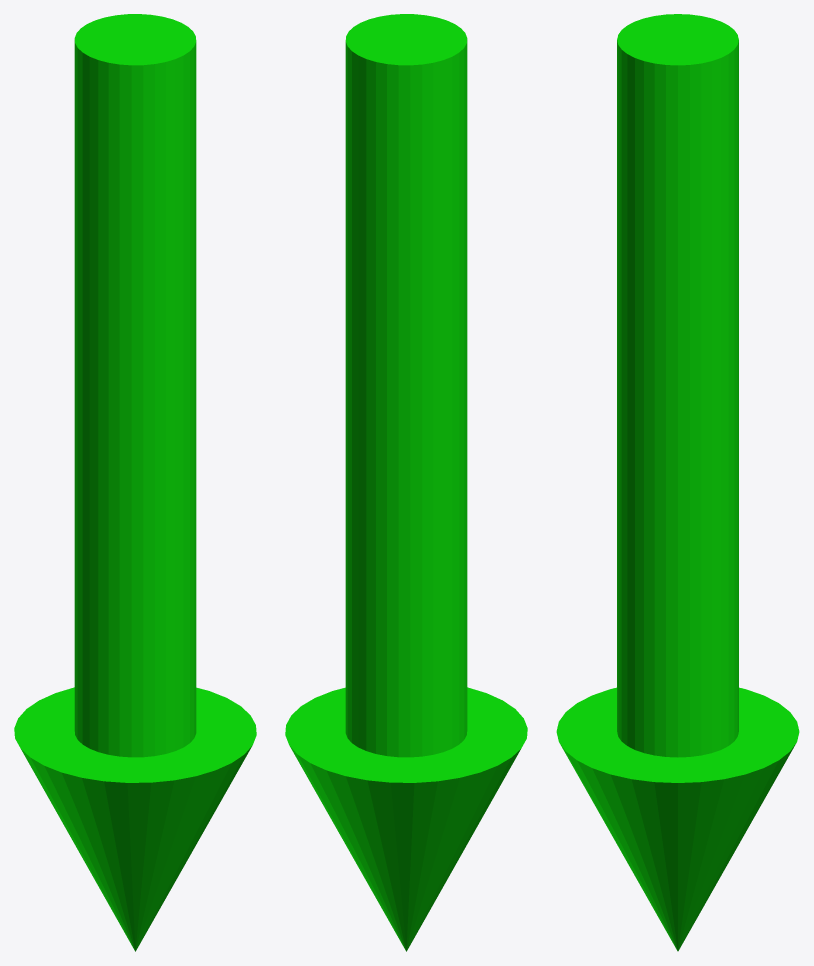
The model's file is gizmo_y.glb.
The picture shows the model from 3 angles, left to right: view 1: azimuth 30°, elevation 25°; view 2: azimuth 150°, elevation 25°; view 3: azimuth 270°, elevation 25°; orthographic projection.
Parts seen in each view (by area): view 1: y; view 2: y; view 3: y.
Boxes of the visible parts, x1=… form: y: x1=14, y1=14, x2=256, y2=951; y: x1=285, y1=14, x2=527, y2=951; y: x1=556, y1=14, x2=799, y2=951.
Bounding box in the file's own units: 0.3772 × 1.56 × 0.3772.
